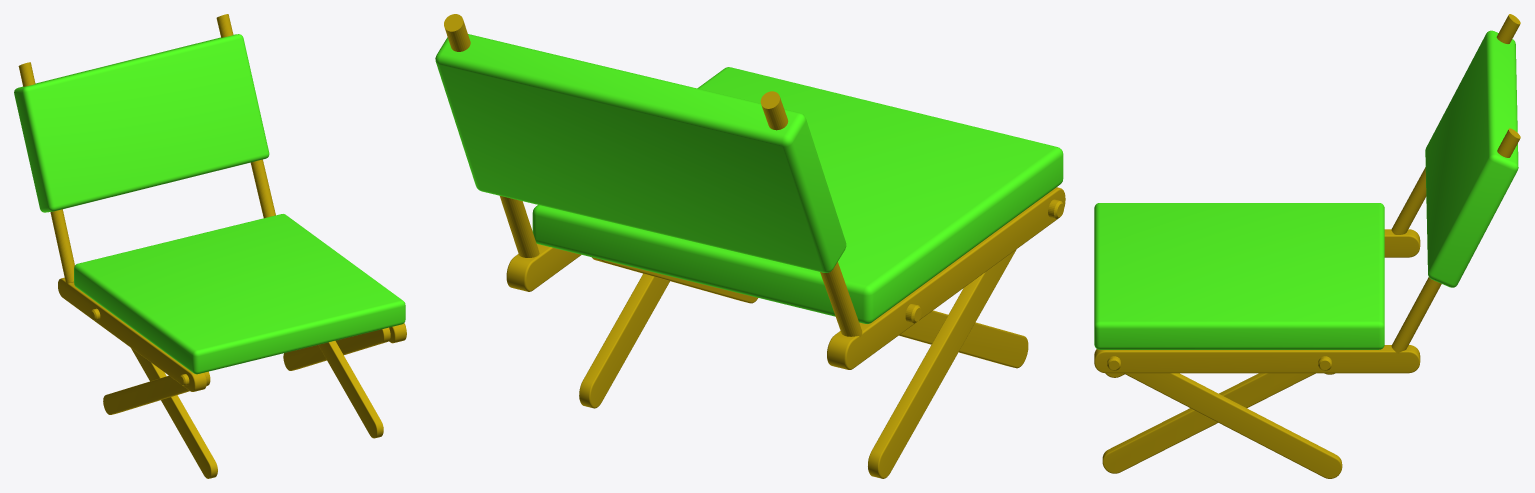
File: chair.glb
3 views of the same model, side by side, from view 1: azimuth 30°, elevation 25°; view 2: azimuth 150°, elevation 25°; view 3: azimuth 270°, elevation 25° (orthographic). The views are drawn at different scales.
Visible parts, largest first — view 1: Chair; view 2: Chair; view 3: Chair.
Part boxes in pixels (bbox=[...]): Chair: bbox=[14, 14, 406, 478]; Chair: bbox=[435, 14, 1065, 478]; Chair: bbox=[1094, 14, 1520, 478].
Size of the model in its own units: 2.09 by 2.68 by 2.94.
